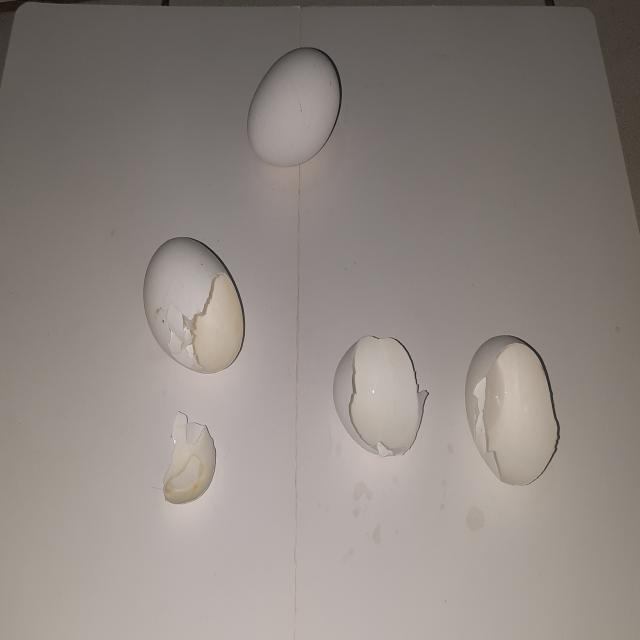egg shell: (138, 226, 246, 382), (460, 330, 562, 490), (324, 328, 434, 468), (242, 40, 344, 176), (150, 410, 223, 510)
